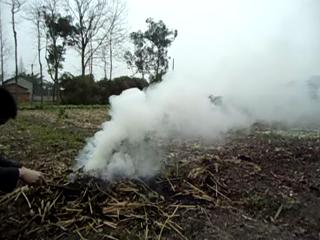yanwu: (85, 34, 297, 169)
